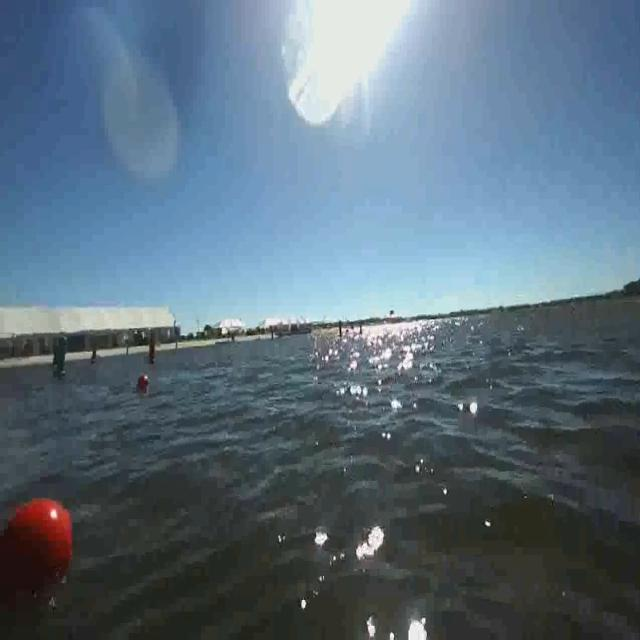green-column-buoy: (54, 336, 70, 378)
red-buoy: (0, 500, 71, 590), (138, 376, 149, 390)
